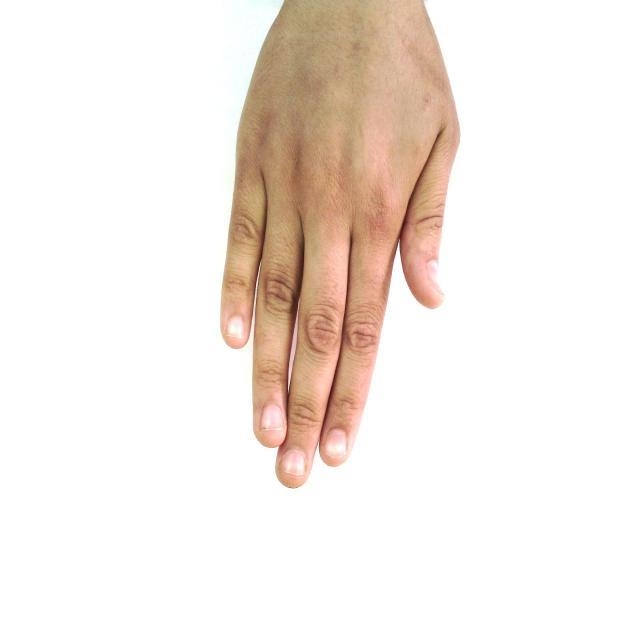Fingernail: (282, 449, 306, 476), (262, 404, 284, 431), (325, 429, 346, 457), (427, 262, 444, 294), (227, 316, 244, 339)
